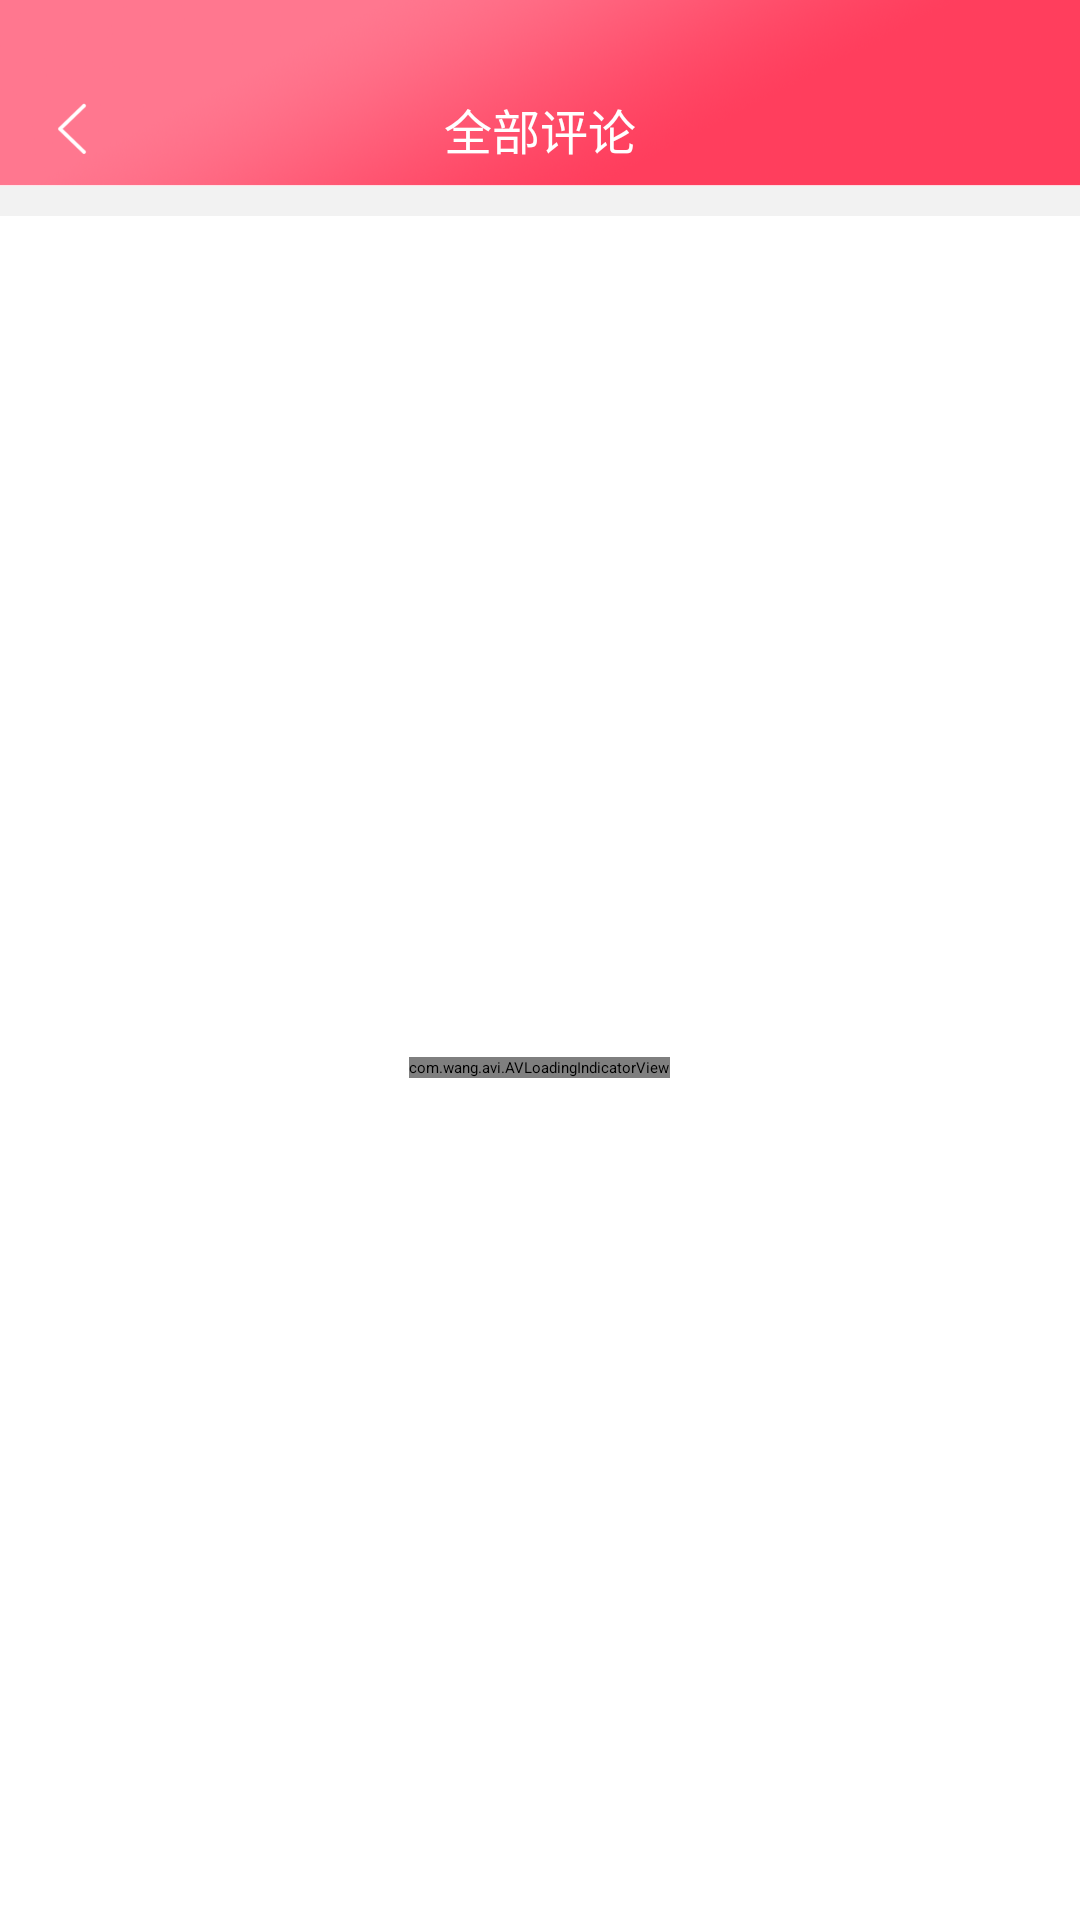

Icons on this 1080 x 1920 Android screen, each with its box as box=[x1, y1, x2, y2]:
back: box=[58, 104, 86, 154]
